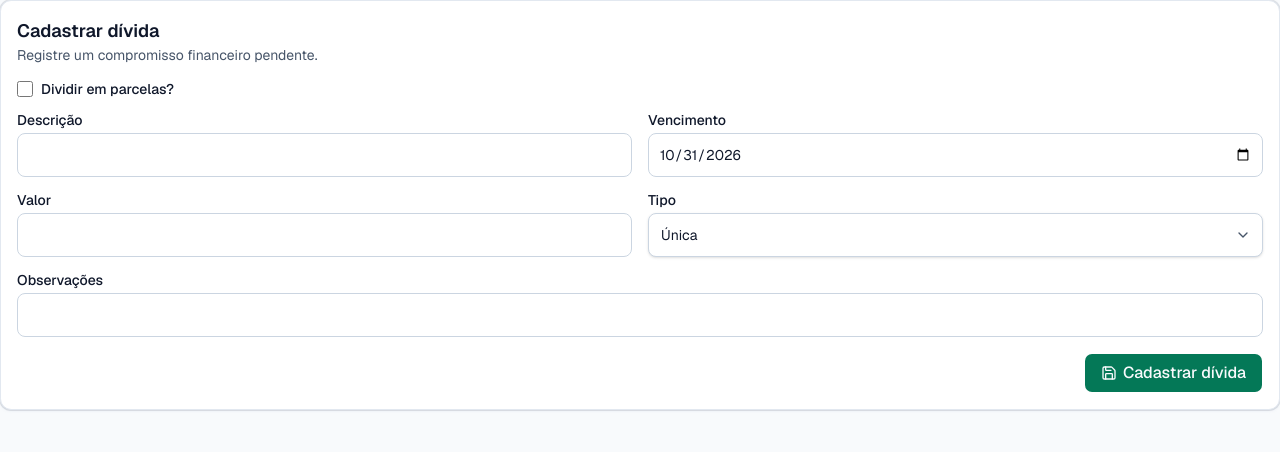
Scenario: DebtForm › should reject an amount above the allowed ceiling
Select "Única" in the dropdown labelled "Tipo" at (956, 235), box [648, 213, 1263, 257]
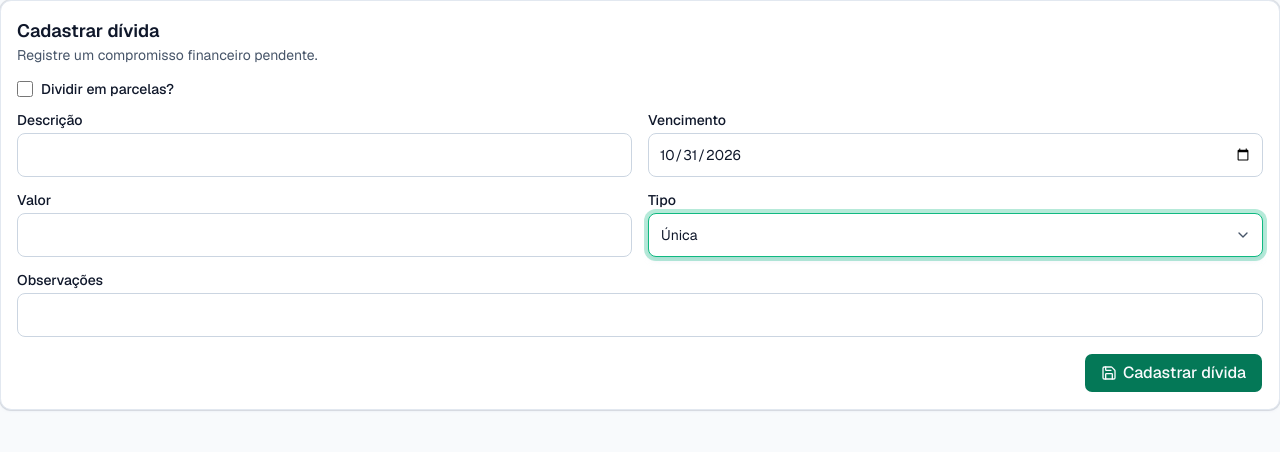
Type "Seguro do carro" into the field labelled "Descrição".
click(324, 155); type("Seguro do carro")  # box [17, 133, 632, 177]
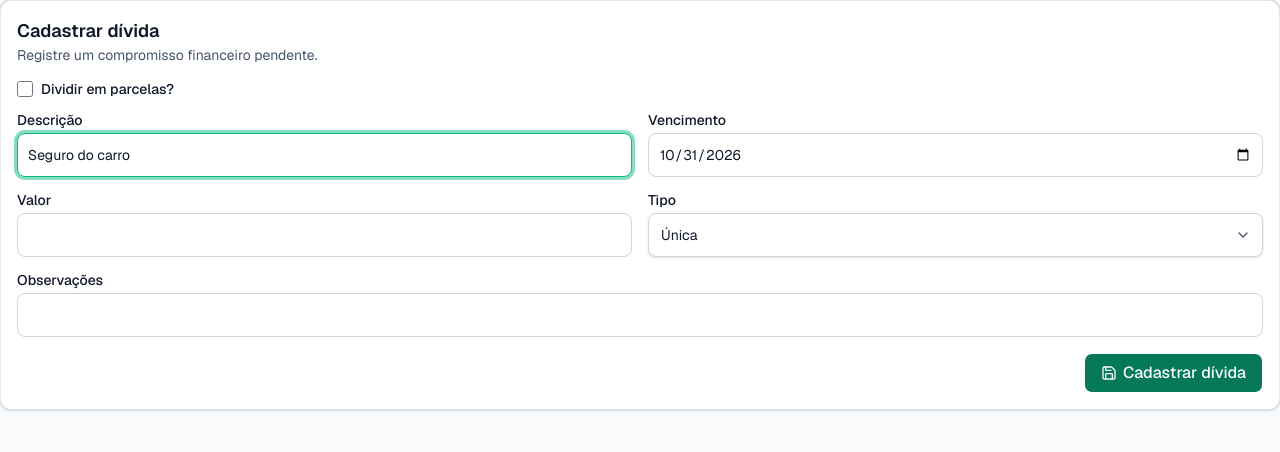
Type "1000000000000" into the field labelled "Valor".
click(324, 235); type("1000000000000")  # box [17, 213, 632, 257]
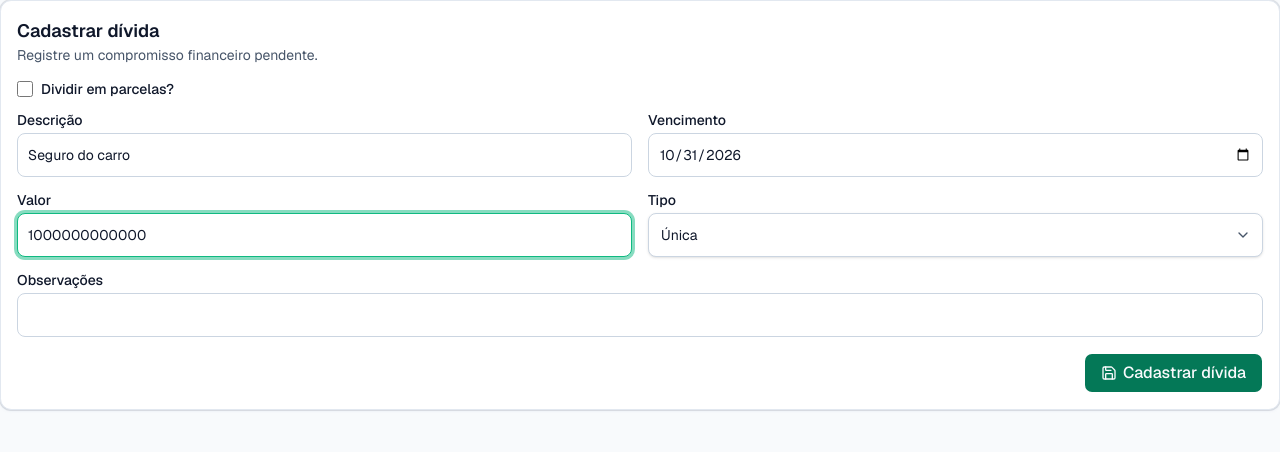
Type "2026-05-20" into the date field labelled "Vencimento".
click(956, 155); type("2026-05-20")  # box [648, 133, 1263, 177]
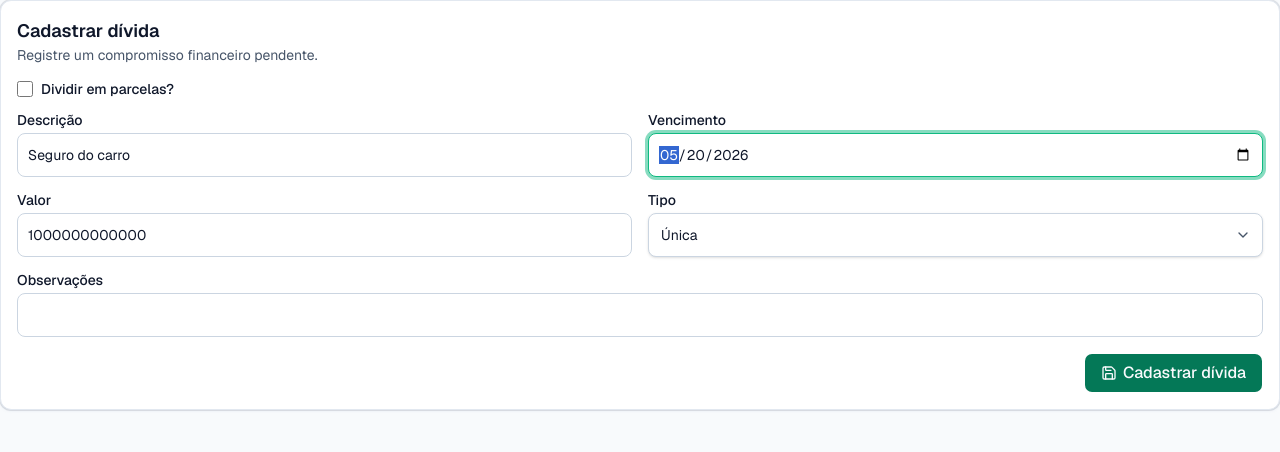
Click the button "Cadastrar dívida".
click(1173, 373)  # box [1084, 353, 1263, 393]
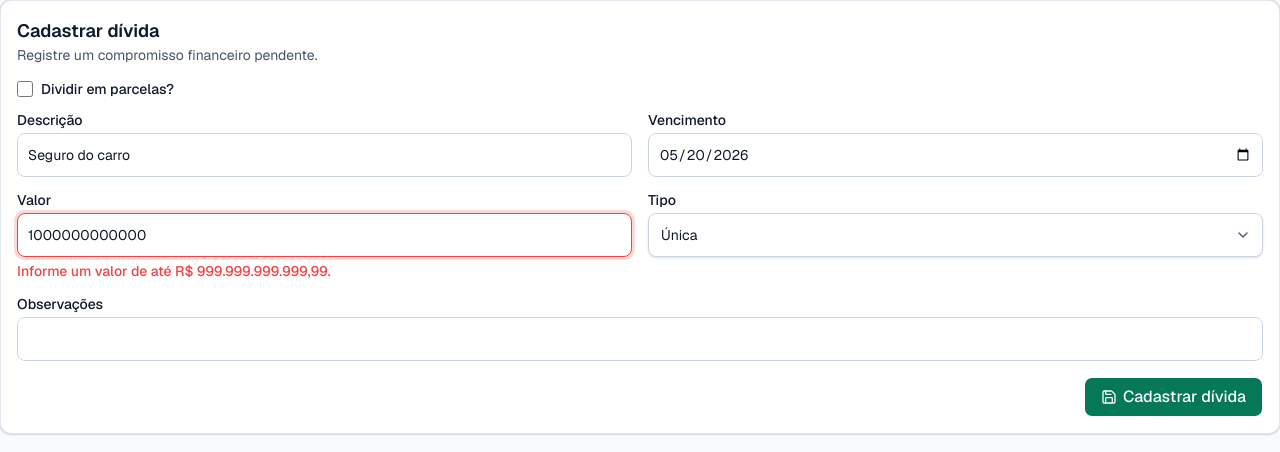
Now the text "Informe um valor de até R$ 999.999.999.999,99." is shown, box [17, 262, 331, 280]
